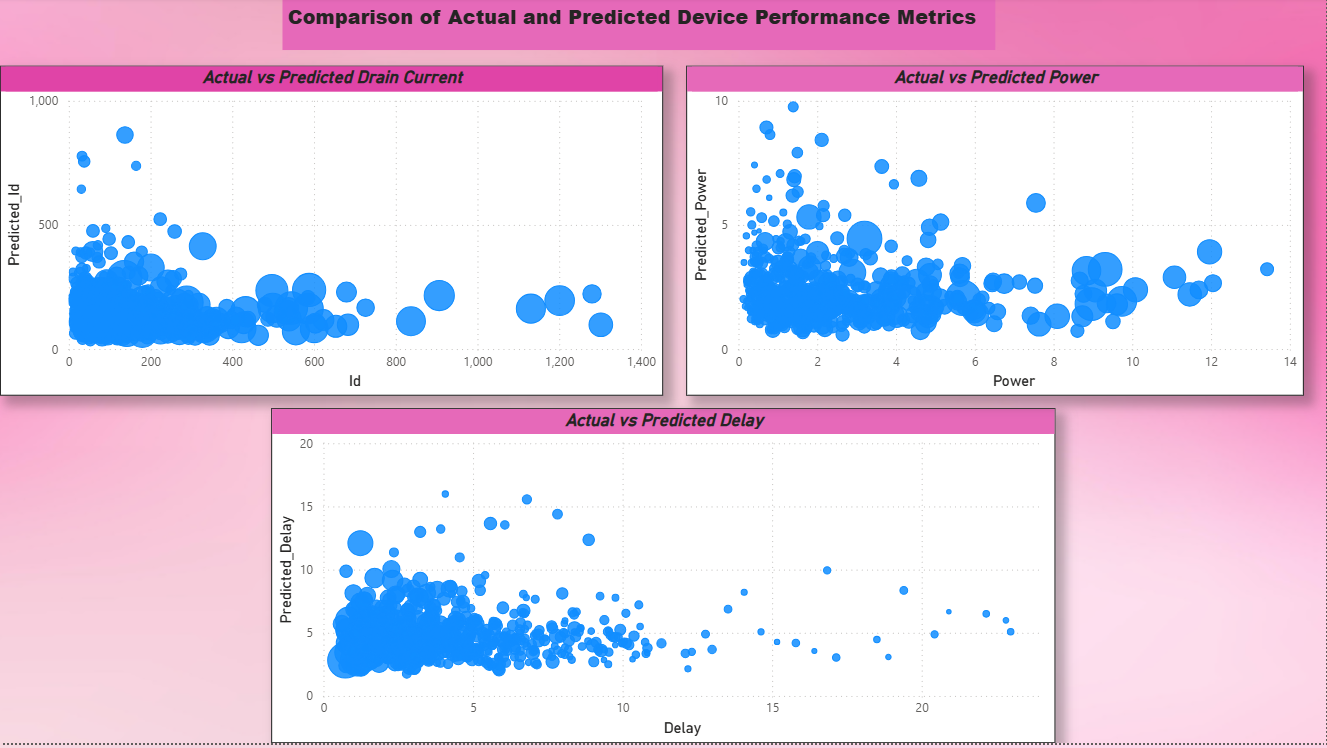

What the dashboard file says about the page in this screenshot:
{"tool":"powerbi","page":{"name":"Machine Learning Model Validation","canvas":[1280,720],"ordinal":2},"visuals":[{"type":"scatterChart","title":"Actual vs Predicted Drain Current","fields":{"Size":["Avg(VLSI_ML_Dataset.Power)"],"X":["VLSI_ML_Dataset.Id"],"Y":["VLSI_ML_Dataset.Predicted_Id"]},"box":[0,66.8,640,318.6],"z":0},{"type":"scatterChart","title":"Actual vs Predicted Delay","fields":{"Size":["Avg(VLSI_ML_Dataset.Id)"],"X":["VLSI_ML_Dataset.Delay"],"Y":["VLSI_ML_Dataset.Predicted_Delay"]},"box":[261.7,396.8,756.6,322.8],"z":1000},{"type":"scatterChart","title":"Actual vs Predicted Power","fields":{"Size":["Avg(VLSI_ML_Dataset.Id)"],"X":["VLSI_ML_Dataset.Power"],"Y":["VLSI_ML_Dataset.Predicted_Power"]},"box":[662.8,66.8,595.9,318.6],"z":2000},{"type":"textbox","box":[273.1,0,688.4,51.2],"z":2001}]}

Visuals, with their boxes in screenshot pixels (x1, y1, x2, y2), scaled from the page's 1280x720 canvas onto the 1327x748 screenshot:
"Actual vs Predicted Drain Current" scatterChart: 0/69/664/400
"Actual vs Predicted Delay" scatterChart: 271/412/1056/747
"Actual vs Predicted Power" scatterChart: 687/69/1305/400
textbox: 283/0/997/53
